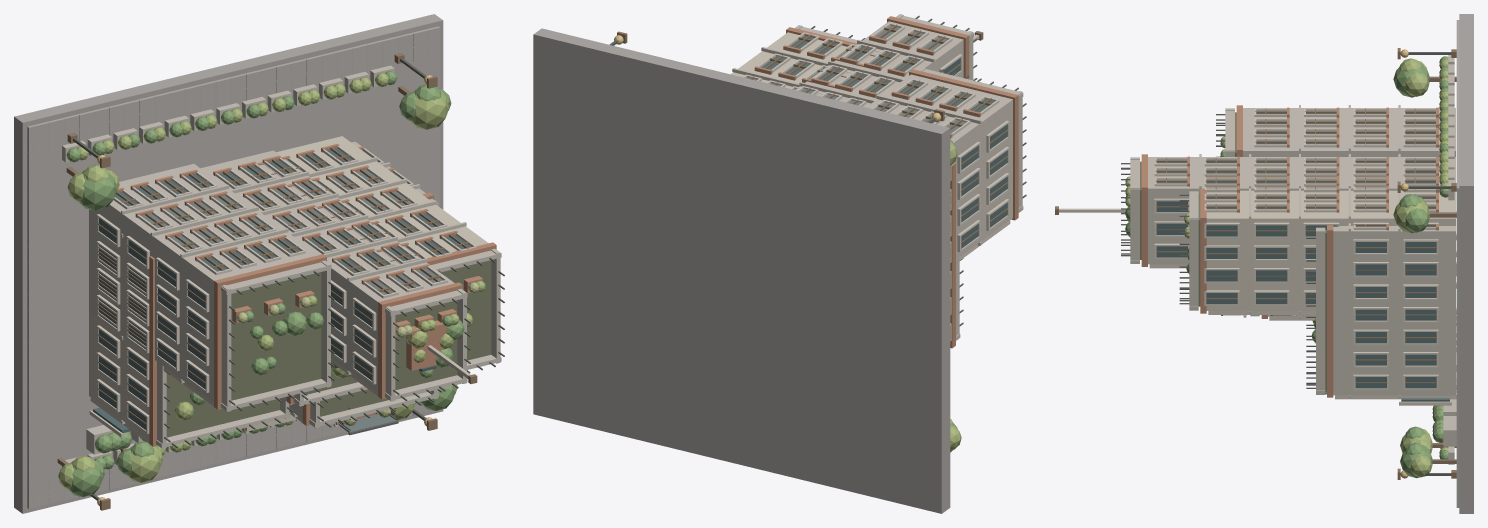
Rendered from apartment-detailed.glb.
3 renders of one model, left to right at view 1: azimuth 30°, elevation 25°; view 2: azimuth 150°, elevation 25°; view 3: azimuth 270°, elevation 25°, orthographic. The views are drawn at different scales.
Visible parts, largest first — view 1: 0001_Paved_plaza, 0000_Square_foundation, 0096_Apartment_mass_03, 0130_Roof_garden, 0188_Apartment_mass_05, 0138_Apartment_mass_04, 0002_Apartment_mass_00, 0024_Roof_garden, 0180_Roof_garden, 0226_Roof_garden, 0129_Terracotta_roof_trim, 0225_Terracotta_roof_trim (+24 smaller); view 2: 0000_Square_foundation, 0096_Apartment_mass_03, 0188_Apartment_mass_05, 0138_Apartment_mass_04, 0129_Terracotta_roof_trim, 0023_Terracotta_roof_trim, 0225_Terracotta_roof_trim, 1813_Roof_parapet_short; view 3: 0032_Apartment_mass_01, 0138_Apartment_mass_04, 0000_Square_foundation, 0188_Apartment_mass_05, 0096_Apartment_mass_03, 0001_Paved_plaza, 0984_Roof_parapet_short, 0053_Terracotta_roof_trim, 2347_Roof_parapet_short, 0225_Terracotta_roof_trim, 0179_Terracotta_roof_trim, 2834_Roof_parapet_short (+1 smaller).
Boxes of the visible parts, <box> form: 0001_Paved_plaza: <box>27,26,439,508</box>; 0000_Square_foundation: <box>14,14,443,513</box>; 0096_Apartment_mass_03: <box>89,164,318,402</box>; 0130_Roof_garden: <box>231,272,321,400</box>; 0188_Apartment_mass_05: <box>201,150,454,392</box>; 0138_Apartment_mass_04: <box>276,136,488,258</box>; 0002_Apartment_mass_00: <box>89,213,149,439</box>; 0024_Roof_garden: <box>166,373,279,437</box>; 0180_Roof_garden: <box>442,260,491,360</box>; 0226_Roof_garden: <box>395,300,457,390</box>; 0129_Terracotta_roof_trim: <box>214,254,326,409</box>; 0225_Terracotta_roof_trim: <box>378,282,462,399</box>; 0000_Square_foundation: <box>533,28,950,513</box>; 0096_Apartment_mass_03: <box>866,74,1012,259</box>; 0188_Apartment_mass_05: <box>795,21,963,107</box>; 0138_Apartment_mass_04: <box>731,32,847,88</box>; 0129_Terracotta_roof_trim: <box>909,69,1018,220</box>; 0023_Terracotta_roof_trim: <box>950,163,955,348</box>; 0225_Terracotta_roof_trim: <box>887,16,969,79</box>; 1813_Roof_parapet_short: <box>1014,91,1022,207</box>; 0032_Apartment_mass_01: <box>1333,226,1455,395</box>; 0138_Apartment_mass_04: <box>1206,190,1455,310</box>; 0000_Square_foundation: <box>1459,14,1473,513</box>; 0188_Apartment_mass_05: <box>1148,157,1455,264</box>; 0096_Apartment_mass_03: <box>1243,108,1455,156</box>; 0001_Paved_plaza: <box>1456,20,1459,507</box>; 0984_Roof_parapet_short: <box>1316,229,1325,394</box>; 0053_Terracotta_roof_trim: <box>1327,225,1333,397</box>; 2347_Roof_parapet_short: <box>1189,217,1198,310</box>; 0225_Terracotta_roof_trim: <box>1141,154,1147,266</box>; 0179_Terracotta_roof_trim: <box>1200,189,1206,313</box>; 2834_Roof_parapet_short: <box>1130,186,1139,263</box>.
Bounding box in the file's own units: 18 × 16 × 18.52.
